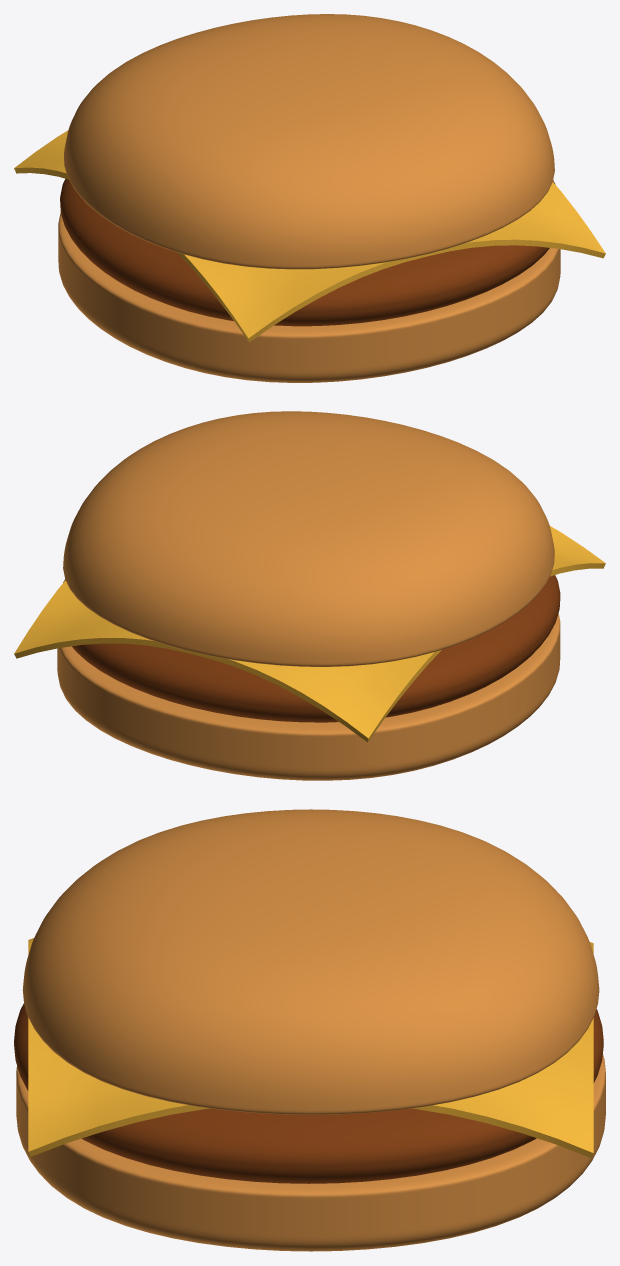
Rendered from hamburger.glb.
3 renders of one model, top to bottom at view 1: azimuth 30°, elevation 25°; view 2: azimuth 150°, elevation 25°; view 3: azimuth 270°, elevation 25°, orthographic. The views are drawn at different scales.
Parts seen in each view (by area): view 1: Cube.002, Cube, Cube.001, Plane; view 2: Cube.002, Cube, Cube.001, Plane; view 3: Cube.002, Cube, Cube.001, Plane.
Part boxes in pixels (x1,y1,x2,y2): Cube.002: [64, 14, 554, 269]; Cube: [58, 213, 560, 382]; Cube.001: [60, 179, 555, 326]; Plane: [14, 130, 605, 342]; Cube.002: [63, 411, 554, 666]; Cube: [57, 613, 560, 780]; Cube.001: [63, 575, 560, 722]; Plane: [14, 526, 605, 742]; Cube.002: [22, 809, 599, 1114]; Cube: [16, 1054, 605, 1251]; Cube.001: [14, 1003, 603, 1183]; Plane: [28, 938, 593, 1157].
Bounding box in the file's own units: 9.18 × 4.71 × 9.19.
